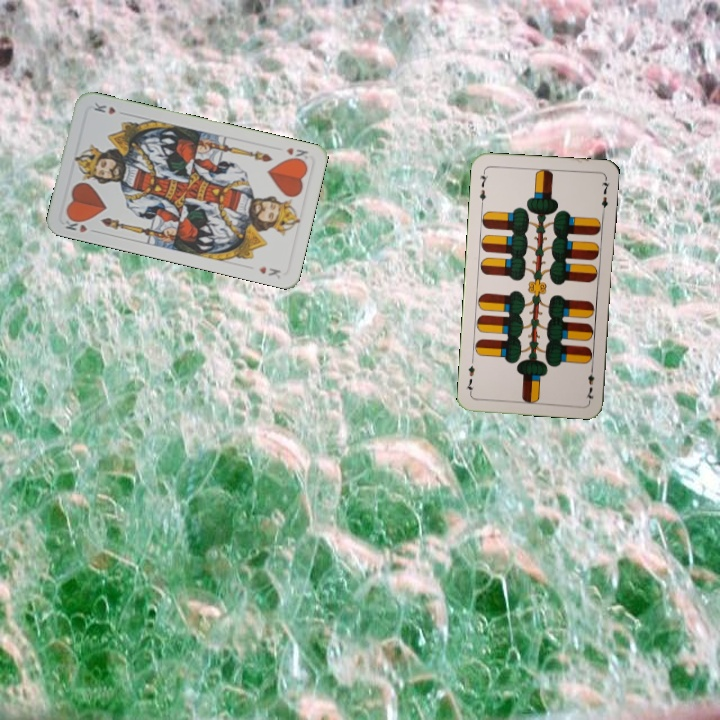E7: (582, 362, 597, 403), (475, 167, 490, 207)
HK: (282, 143, 311, 165), (61, 213, 90, 235)
